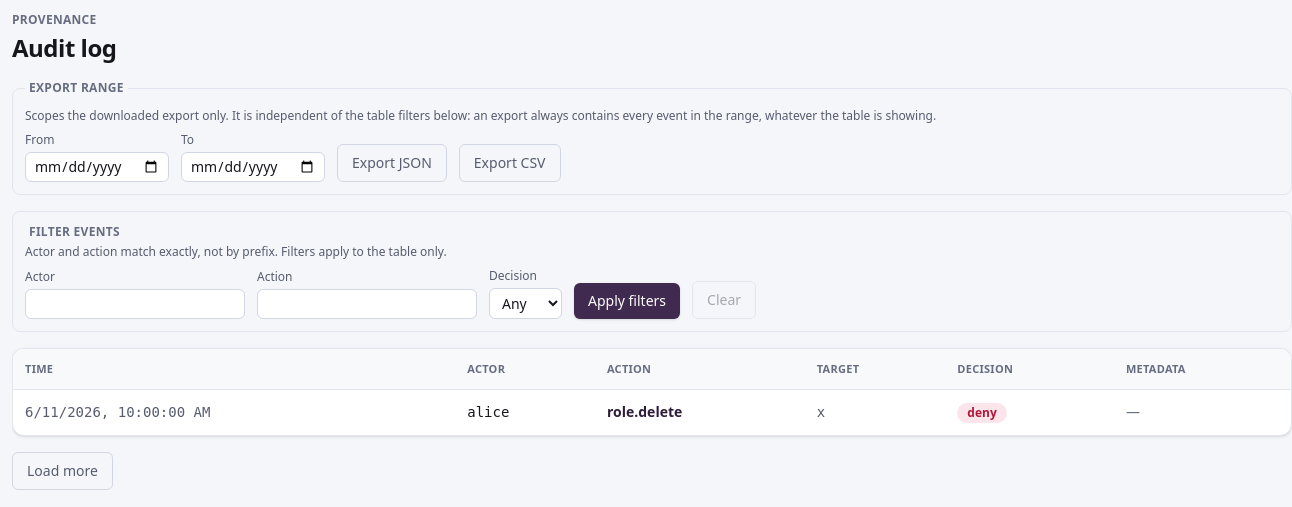
it: Clear discards a typed draft instead of submitting it
This screenshot has width=1292, height=507.
expect the text "role.delete" is shown: met, box top-left (595, 389), bottom-right (805, 435)
Type "alice" into the field named "Filter by actor" at (135, 304), box top-left (25, 289), bottom-right (245, 319)
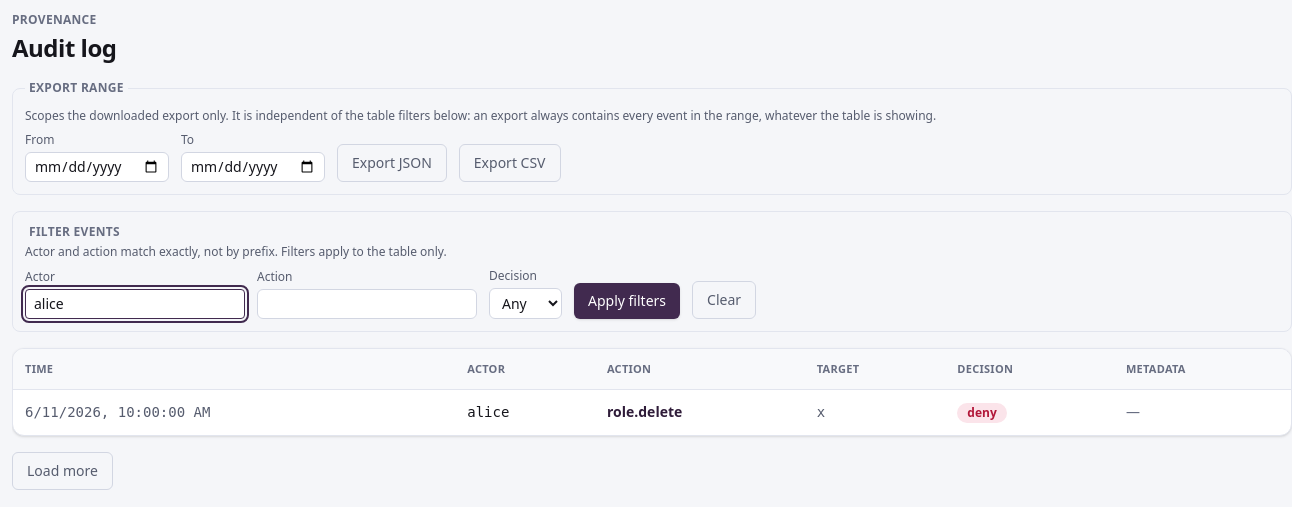
Click the button "Clear" at (724, 300), box top-left (692, 281), bottom-right (756, 319)
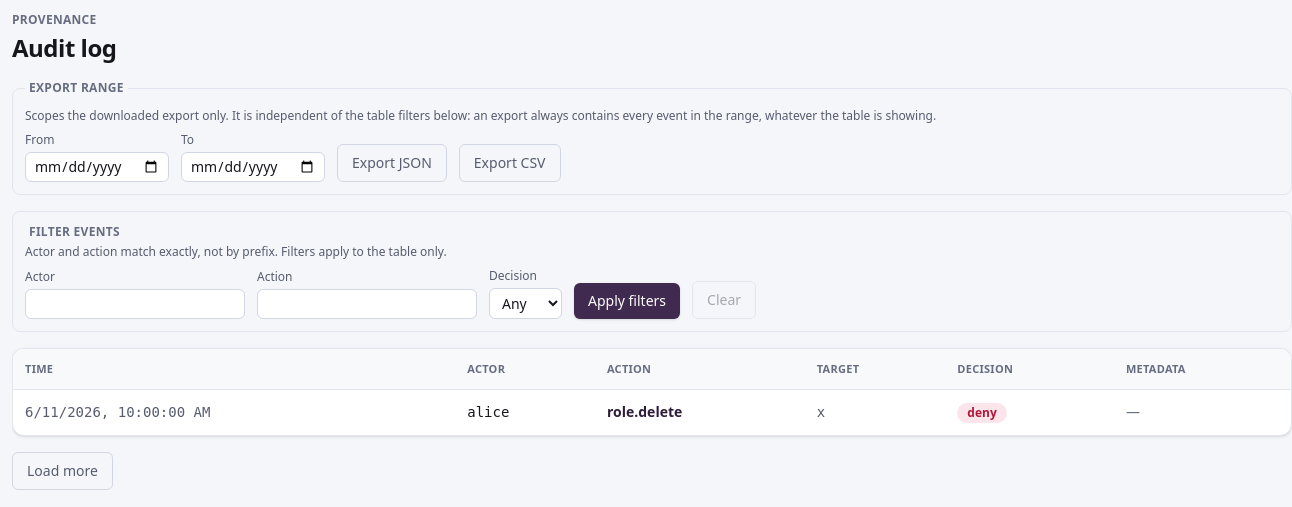
expect the field named "Filter by actor" is empty: met, box top-left (25, 289), bottom-right (245, 319)
